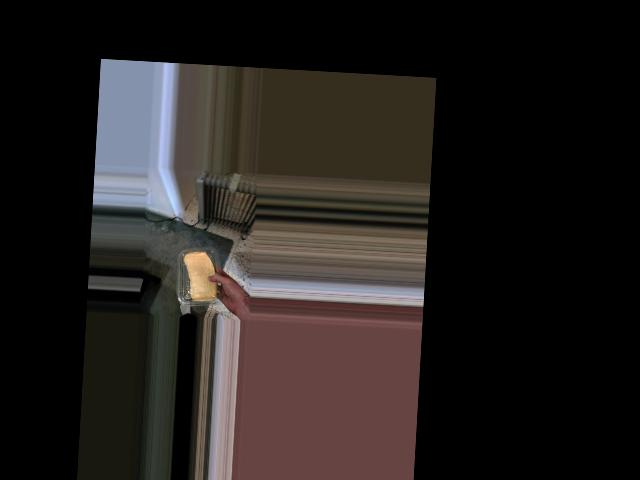cheese: (176, 243, 224, 306)
